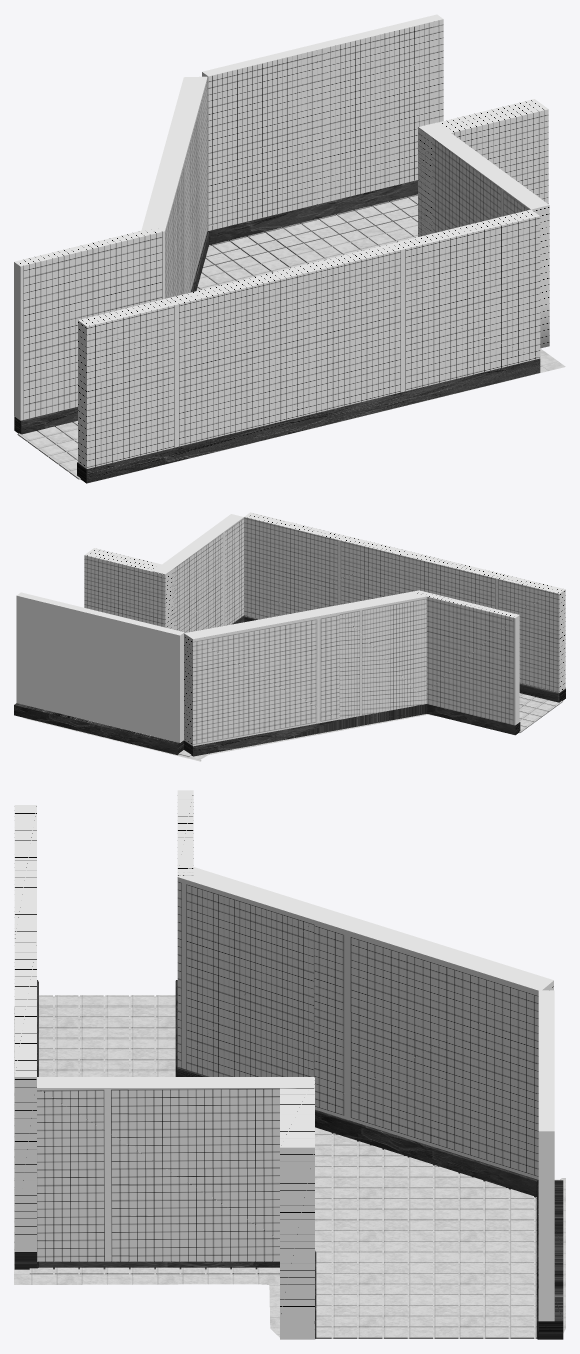
Rendered from station.glb.
3 renders of one model, top to bottom at view 1: azimuth 30°, elevation 25°; view 2: azimuth 150°, elevation 25°; view 3: azimuth 270°, elevation 25°, orthographic. The views are drawn at different scales.
Visible parts, largest first — view 1: Plane.006, Plane.016, Plane.017, Plane.004, Plane, Plane.001, Plane.005, Plane.002, Plane.011, Plane.012, Plane.015; view 2: Plane.001, Plane.006, Plane.017, Plane.004, Plane.016, Plane.005, Plane.002, Plane.012, Plane, Plane.013, Plane.014, Plane.015 (+1 smaller); view 3: Plane.001, Plane, Plane.005, Plane.002, Plane.017, Plane.006, Plane.013, Plane.016, Plane.012, Plane.003, Plane.004.
Boxes of the visible parts, left/top/right/bottom form: Plane.006: left=202, top=14, right=443, bottom=230; Plane.016: left=78, top=264, right=313, bottom=468; Plane.017: left=305, top=209, right=540, bottom=413; Plane.004: left=14, top=227, right=164, bottom=420; Plane: left=17, top=194, right=565, bottom=479; Plane.001: left=141, top=76, right=207, bottom=298; Plane.005: left=418, top=122, right=549, bottom=348; Plane.002: left=418, top=99, right=548, bottom=236; Plane.011: left=77, top=358, right=540, bottom=483; Plane.012: left=208, top=180, right=417, bottom=245; Plane.015: left=14, top=407, right=77, bottom=434; Plane.001: left=184, top=590, right=427, bottom=746; Plane.006: left=16, top=592, right=184, bottom=742; Plane.017: left=244, top=512, right=407, bottom=619; Plane.004: left=415, top=590, right=519, bottom=725; Plane.016: left=402, top=551, right=565, bottom=692; Plane.005: left=153, top=514, right=243, bottom=632; Plane.002: left=84, top=548, right=175, bottom=629; Plane.012: left=14, top=703, right=183, bottom=754; Plane: left=21, top=693, right=563, bottom=761; Plane.013: left=184, top=719, right=339, bottom=756; Plane.014: left=282, top=704, right=427, bottom=740; Plane.015: left=427, top=704, right=520, bottom=735; Plane.001: left=177, top=866, right=553, bottom=1179; Plane: left=14, top=995, right=565, bottom=1338; Plane.005: left=37, top=1077, right=314, bottom=1261; Plane.002: left=280, top=1077, right=314, bottom=1339; Plane.017: left=14, top=941, right=36, bottom=1251; Plane.006: left=538, top=990, right=554, bottom=1321; Plane.013: left=315, top=1109, right=538, bottom=1197; Plane.016: left=14, top=805, right=36, bottom=940; Plane.012: left=536, top=1180, right=563, bottom=1339; Plane.003: left=39, top=1261, right=279, bottom=1269; Plane.004: left=177, top=790, right=193, bottom=876.
Bounding box in the file's own units: 29.09 × 8.23 × 19.78.
Materials: 3 (3 with a texture image).
